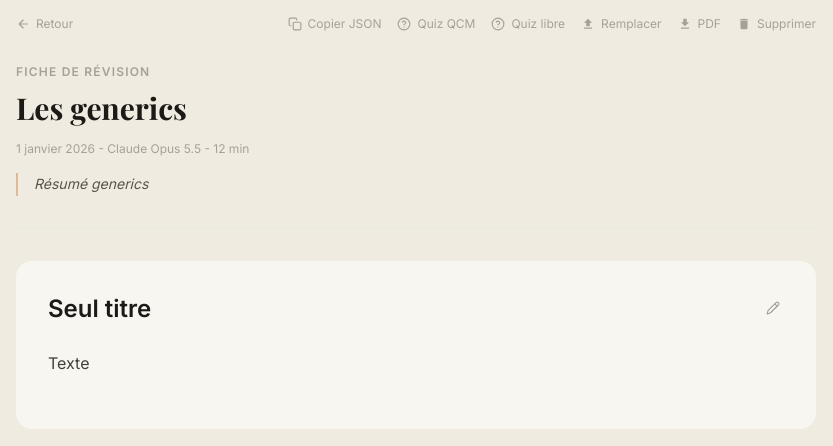
Test case: FlashCardDetailPage copy quiz prompt › copies the open quiz prompt from the « Quiz libre » button only
Click the button "Quiz libre".
click(528, 24)  # box x1=491 y1=16 x2=565 y2=32
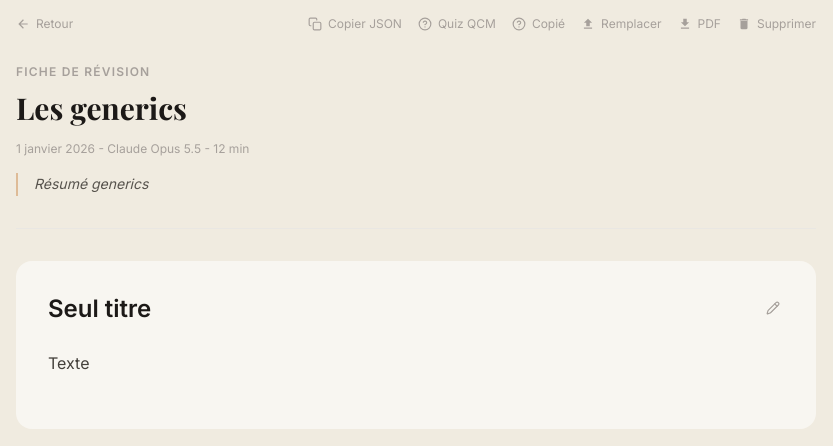
Expected: the button "Quiz QCM" is shown, x1=418 y1=16 x2=496 y2=32
Expected: the button "Copié" is shown, x1=512 y1=16 x2=565 y2=32
